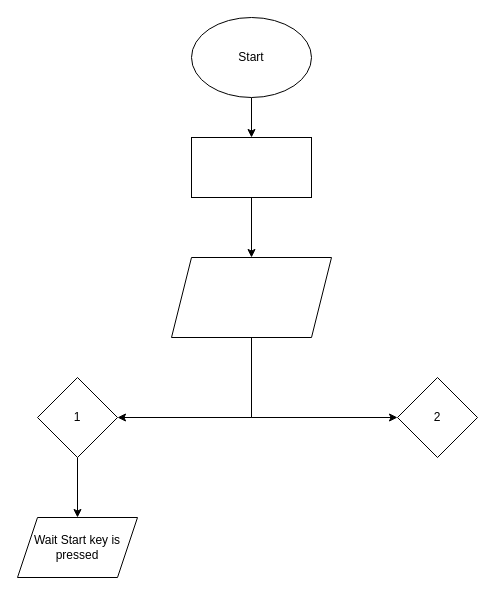
Image size: 495x595. Some labels were removed from this diagram. Here are the shapes that lost their labels. From the top down, the centre of each, then its label:
At (x=251, y=167): "Read config file".
At (x=251, y=297): "Input choice 1 -> Study mode 2 -> Bruteforce mode".
